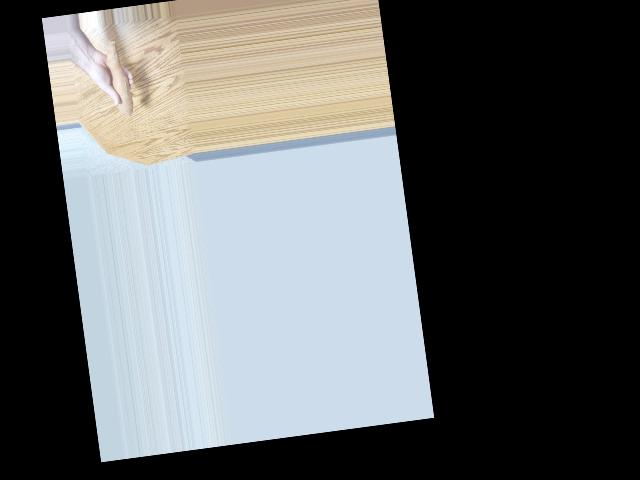sweet_potato: (102, 35, 137, 119)
